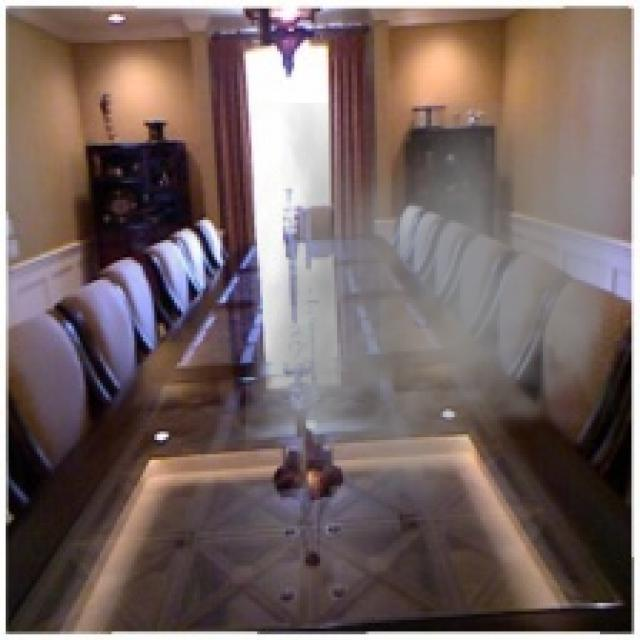Smoke: (246, 102, 628, 514)
